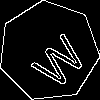W: (24, 26, 90, 92)
